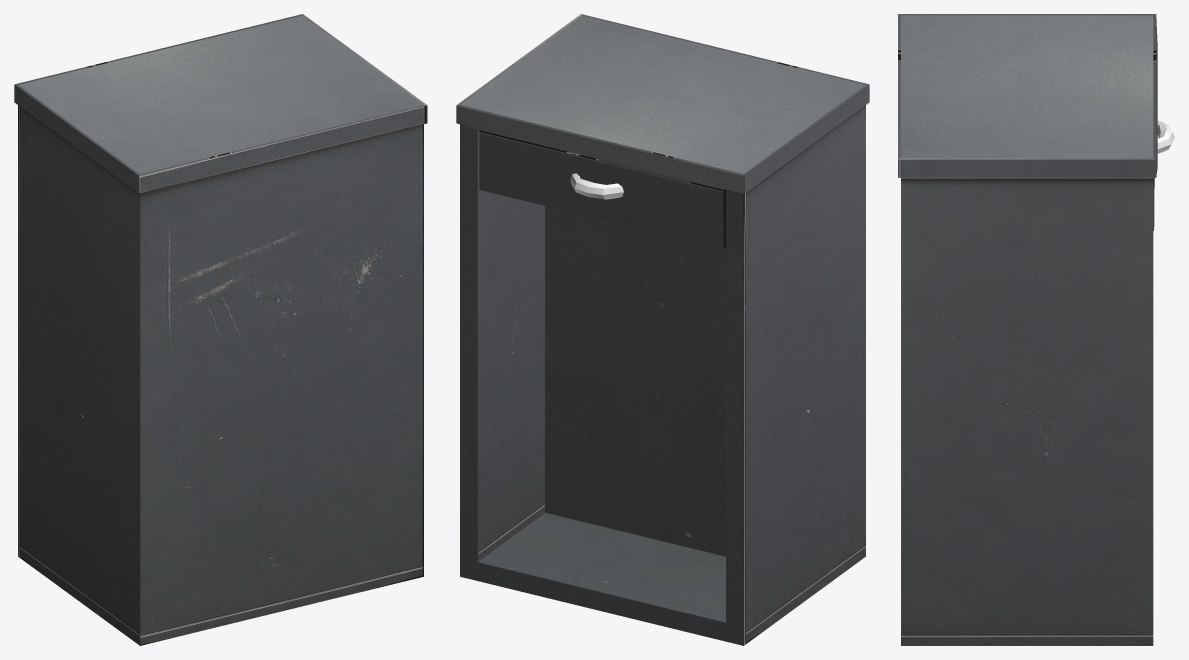
Rendered from armarioL4.fbx.
3 views of the same model, side by side, from view 1: azimuth 30°, elevation 25°; view 2: azimuth 150°, elevation 25°; view 3: azimuth 270°, elevation 25° (orthographic). The views are drawn at different scales.
Parts seen in each view (by area): view 1: Cube; view 2: Cube, Cylinder; view 3: Cube, Cylinder.
Boxes of the visible parts, x1,y1,x2,y2 form: Cube: (14, 14, 427, 645); Cube: (456, 14, 869, 645); Cylinder: (570, 173, 623, 199); Cube: (898, 14, 1157, 645); Cylinder: (1157, 120, 1174, 153).
Size of the model in its own units: 73.6 by 115 by 59.17.
Materials: 2 (1 with a texture image).
